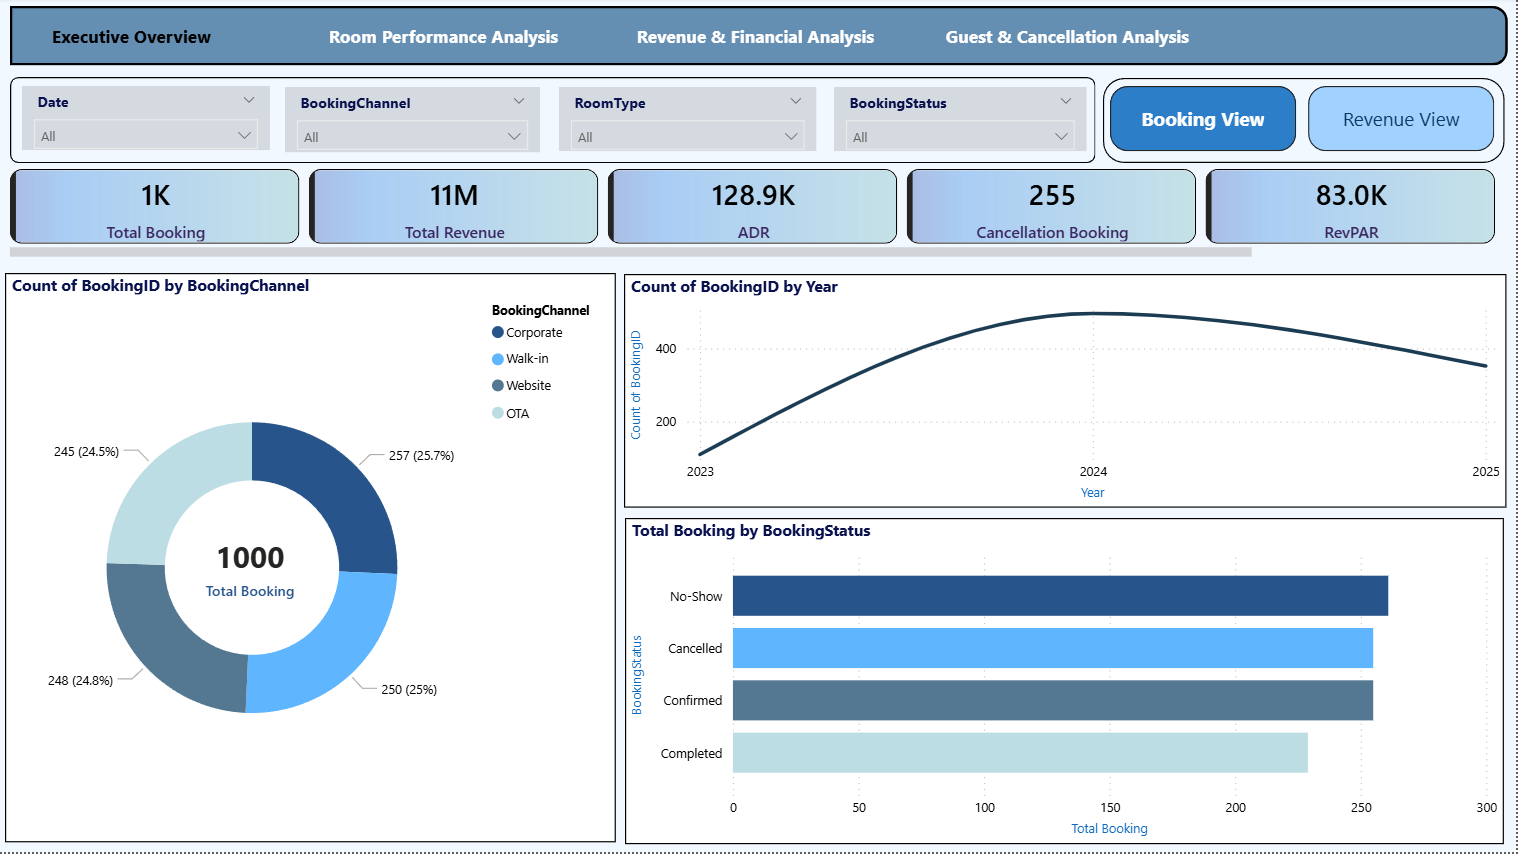

This screenshot's page, from the dashboard's own definition file:
{"tool":"powerbi","page":{"name":"Executive Overview ","canvas":[1280,720],"ordinal":1},"visuals":[{"type":"shape","box":[11.3,66.9,915.2,72.6],"z":0},{"type":"slicer","fields":{"Values":["DateTable.Date"]},"box":[21.5,74.3,208.8,54.1],"z":0,"group":"g2"},{"type":"pieChart","fields":{"Y":["Sum(Revenue.TotalRevenue)"],"Category":["Rooms.OccupancyStatus"]},"box":[698.3,467,572.8,243.8],"z":0,"group":"g3"},{"type":"shape","box":[932.2,67.2,338.5,71.6],"z":1000},{"type":"slicer","fields":{"Values":["Bookings.BookingChannel"]},"box":[243.6,75.1,214.6,54.8],"z":1000,"group":"g2"},{"type":"lineChart","fields":{"Y":["Sum(Revenue.TotalRevenue)"],"Category":["DateTable.Year_2025"]},"box":[10.9,224.5,681.6,195.5],"z":1000,"group":"g1"},{"type":"shape","box":[10.7,7.2,1262.7,50.1],"z":2000},{"type":"slicer","fields":{"Values":["Rooms.RoomType"]},"box":[473.9,75,217.1,54.1],"z":2000,"group":"g2"},{"type":"tableEx","fields":{"Values":["DateTable.Month","Bookings.Total Booking","Bookings.BookingChannel","Rooms.OccupancyStatus","Bookings.Cancellation Booking"]},"box":[699.5,263.3,572.2,197],"z":2000,"group":"g3"},{"type":"pageNavigator","box":[10.8,6.5,1259.6,50.6],"z":3000},{"type":"slicer","fields":{"Values":["Bookings.BookingStatus"]},"box":[705.9,75,212.9,54.1],"z":3000,"group":"g2"},{"type":"group","id":"g1","title":"Years","box":[9.8,224.5,682.8,195.5],"z":3000,"group":"g3"},{"type":"cardVisual","fields":{"Data":["Bookings.Total Booking","Sum(Revenue.TotalRevenue)","Sum(Revenue.ADR)","Bookings.Cancellation Rate","Sum(Revenue.RevPAR)","Rooms.Occupancy %"]},"box":[6.3,138.9,1265.7,86.9],"z":4000},{"type":"group","id":"g2","title":"Slicers","box":[21.5,74.3,897.3,55.5],"z":5000},{"type":"bookmarkNavigator","title":"View Bookmark ","box":[938.5,74.3,326,55.5],"z":7000},{"type":"lineStackedColumnComboChart","fields":{"Y":["Sum(Revenue.TotalRevenue)"],"Y2":["Rooms.Occupancy %"],"Category":["Bookings.BookingChannel"]},"box":[10.8,428.5,681.2,282.4],"z":7500},{"type":"bookmarkNavigator","title":"Year Bookmark ","box":[749.6,224.8,471,30.4],"z":8000},{"type":"group","id":"g3","title":"Revenue View","box":[9.8,224.5,1261.9,486.3],"z":9000}]}

Visuals, with their boxes in screenshot pixels (x1, y1, x2, y2), scaled from the page's 1280x720 canvas onto the 1519x857 screenshot:
shape: x1=13 y1=80 x2=1099 y2=166
slicer - DateTable.Date: x1=26 y1=88 x2=273 y2=153
pieChart - Sum(Revenue.TotalRevenue) x Rooms.OccupancyStatus: x1=829 y1=556 x2=1508 y2=846
shape: x1=1106 y1=80 x2=1508 y2=165
slicer - Bookings.BookingChannel: x1=289 y1=89 x2=544 y2=155
lineChart - Sum(Revenue.TotalRevenue) x DateTable.Year_2025: x1=13 y1=267 x2=822 y2=500
shape: x1=13 y1=9 x2=1511 y2=68
slicer - Rooms.RoomType: x1=562 y1=89 x2=820 y2=154
tableEx - DateTable.Month x Bookings.Total Booking: x1=830 y1=313 x2=1509 y2=548
pageNavigator: x1=13 y1=8 x2=1508 y2=68
slicer - Bookings.BookingStatus: x1=838 y1=89 x2=1090 y2=154
"Years" group: x1=12 y1=267 x2=822 y2=500
cardVisual - Bookings.Total Booking x Sum(Revenue.TotalRevenue): x1=7 y1=165 x2=1510 y2=269
"Slicers" group: x1=26 y1=88 x2=1090 y2=154
"View Bookmark " bookmarkNavigator: x1=1114 y1=88 x2=1501 y2=154
lineStackedColumnComboChart - Sum(Revenue.TotalRevenue) x Rooms.Occupancy %: x1=13 y1=510 x2=821 y2=846
"Year Bookmark " bookmarkNavigator: x1=890 y1=268 x2=1449 y2=304
"Revenue View" group: x1=12 y1=267 x2=1509 y2=846
